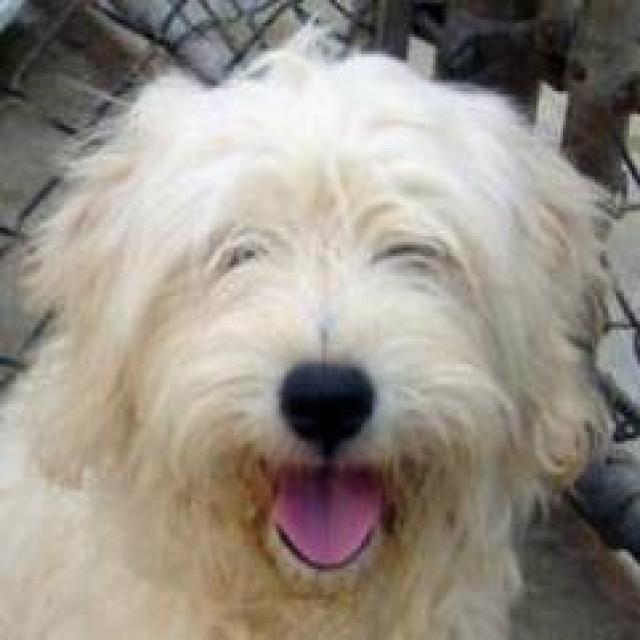dog: (0, 14, 637, 637)
